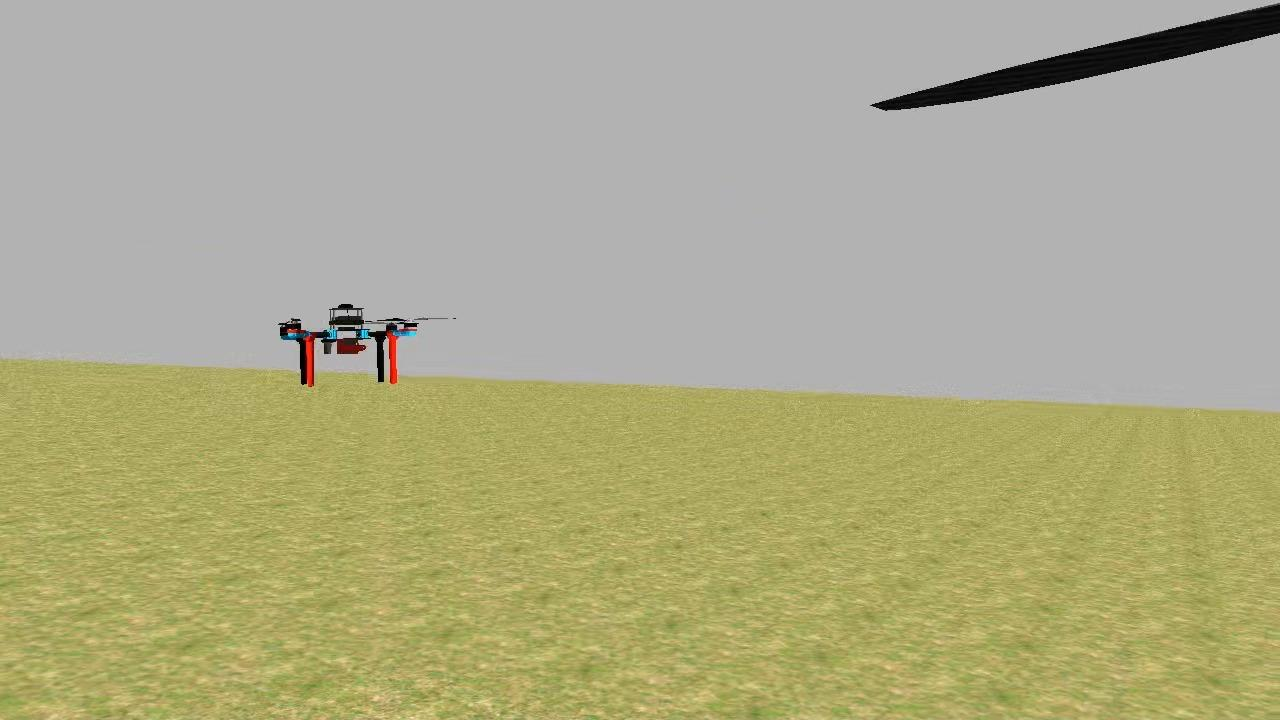UAV: (273, 294, 427, 391)
